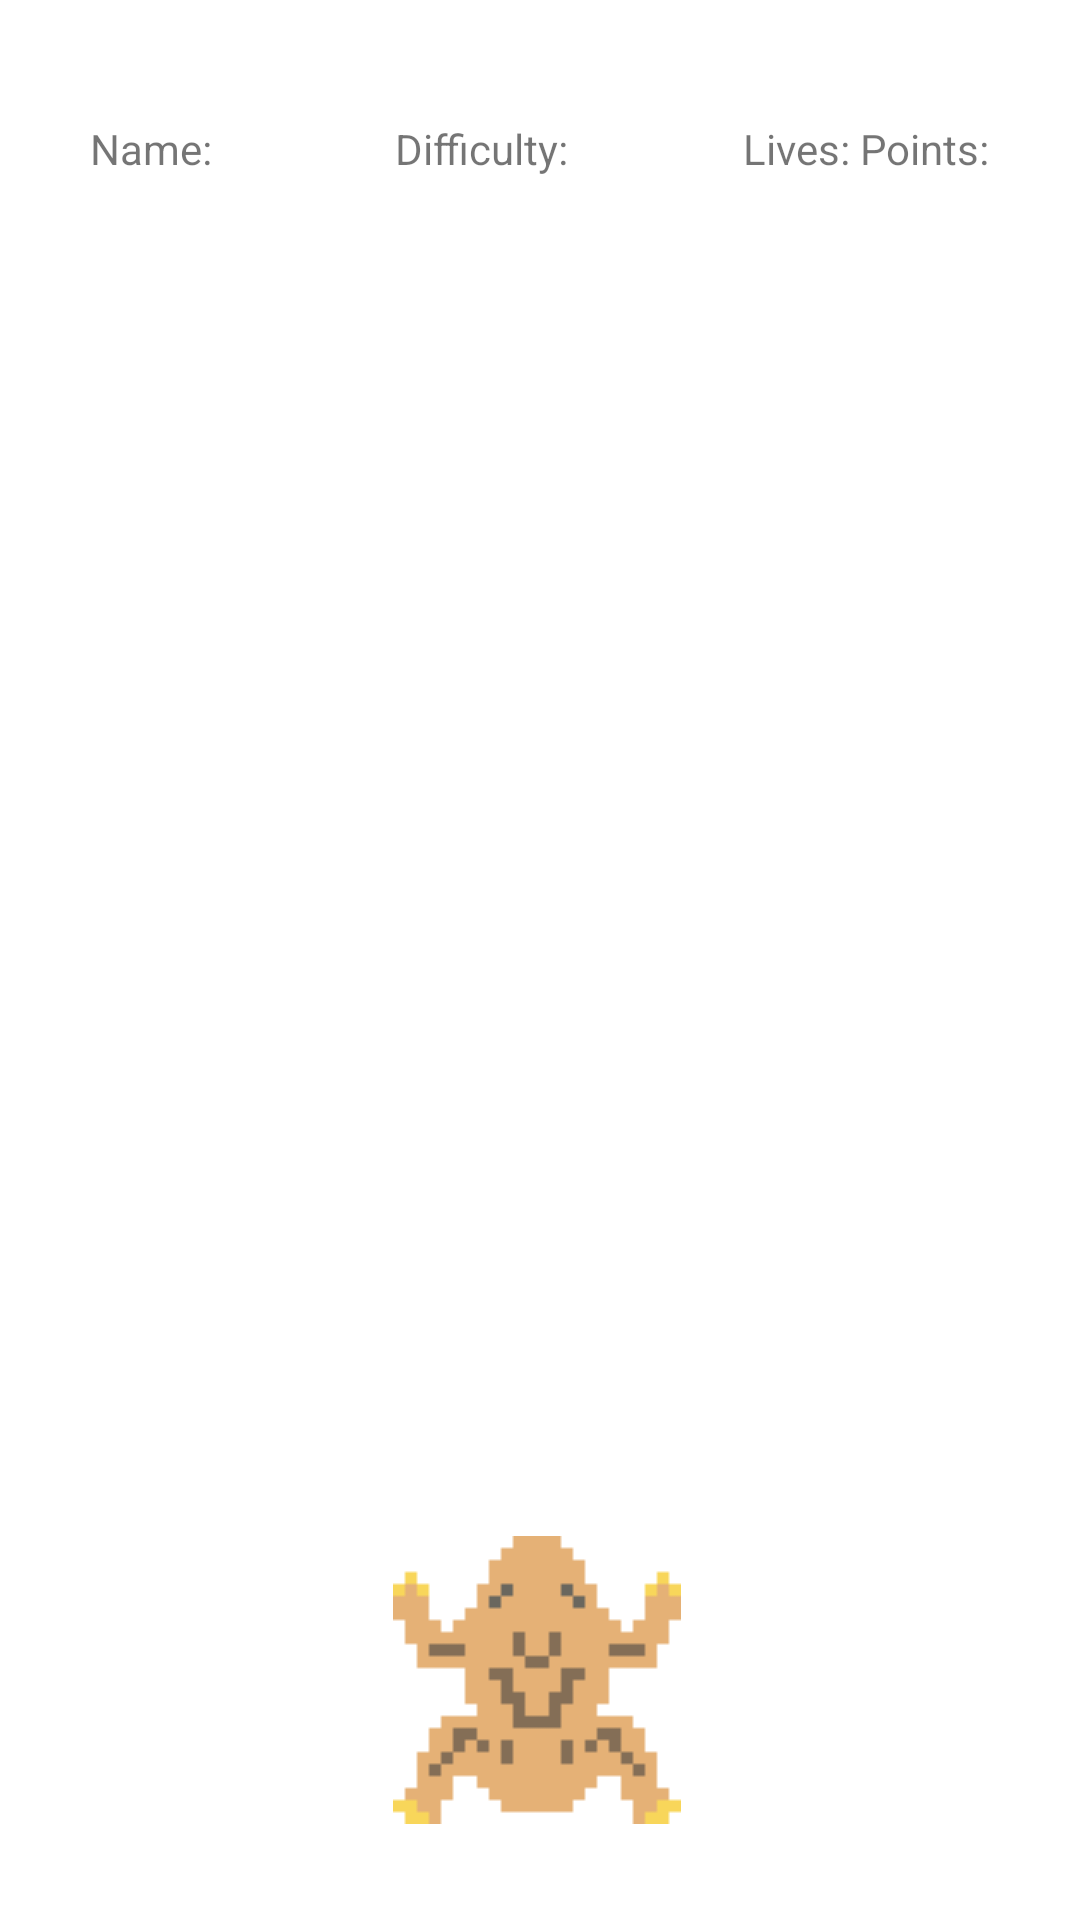

Point at icon controls on the screen. Image size 1080 × 1920, points as point (x, y).
frog sprite: point (537, 1680)
